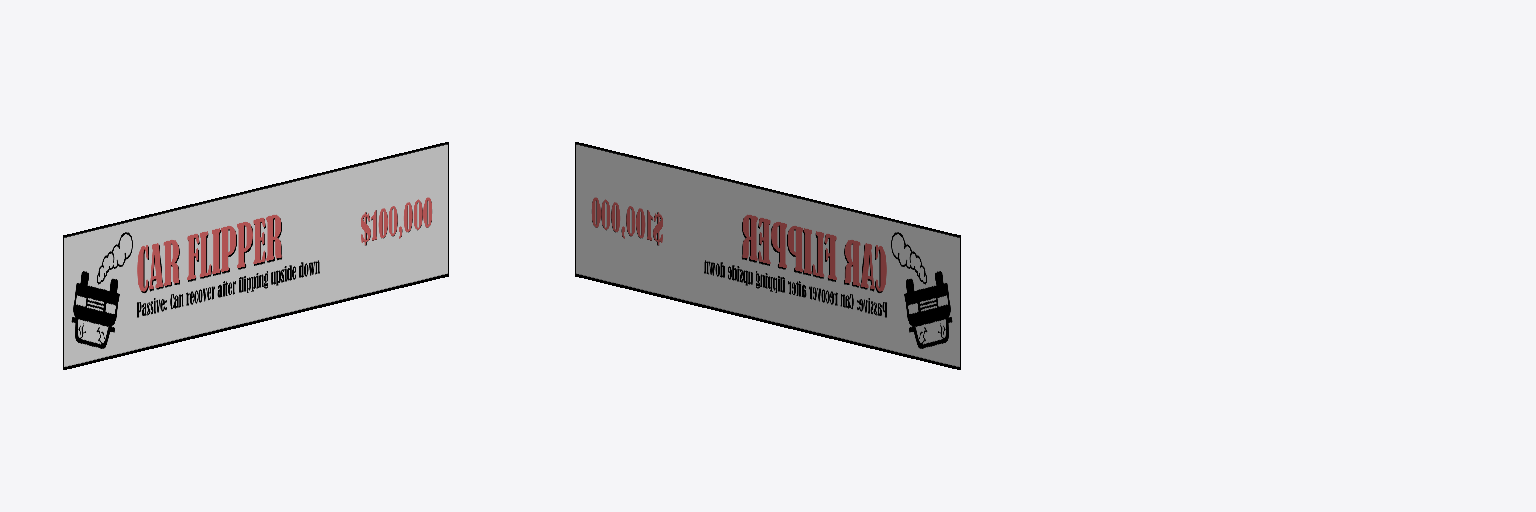
3 views of the same model, side by side, from view 1: azimuth 30°, elevation 25°; view 2: azimuth 150°, elevation 25°; view 3: azimuth 270°, elevation 25° (orthographic).
Visible parts, largest first — view 1: Plane.005; view 2: Plane.005; view 3: none.
Boxes of the visible parts, x1=… form: Plane.005: x1=63, y1=142, x2=448, y2=369; Plane.005: x1=575, y1=142, x2=960, y2=369.
Bounding box in the file's own units: 0.9 × 0.3 × 0.
Materials: 1 (1 with a texture image).